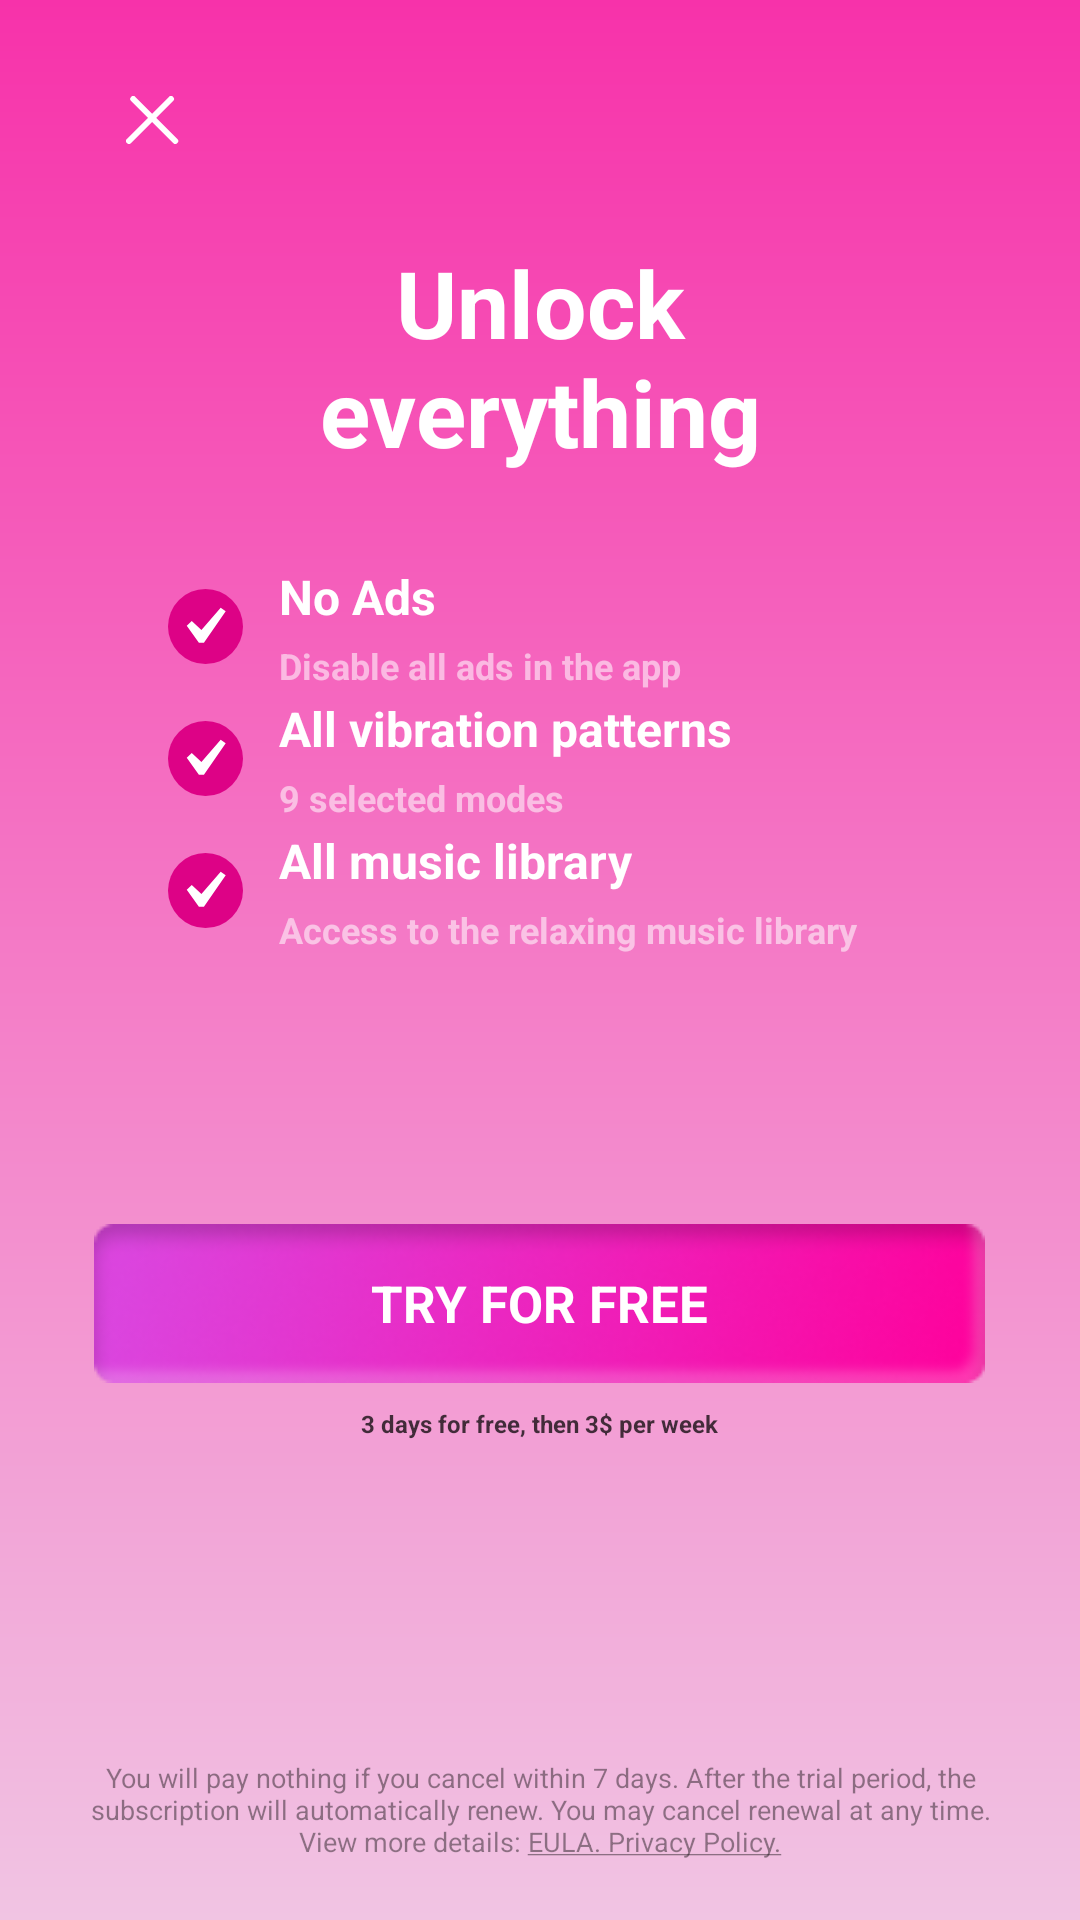

Icon bounding boxes for this 1080×1920 phone screenshot, format (x1, y1, x2, y2):
checkbox unlock: (168, 589, 243, 664), (168, 721, 243, 796), (168, 853, 243, 928)
close: (126, 96, 179, 144)
